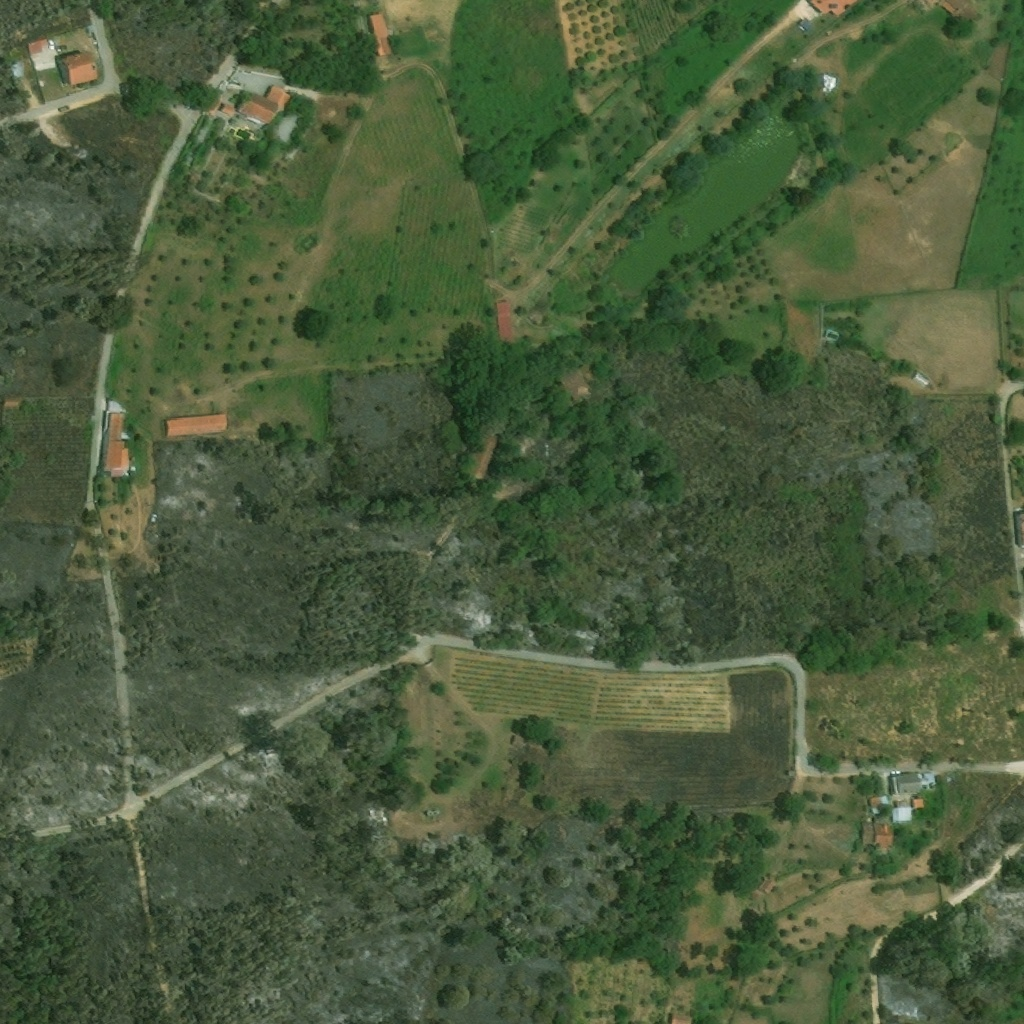0 no-damage: (218, 84, 291, 124), (100, 411, 130, 478), (55, 50, 99, 86), (162, 413, 223, 434), (861, 817, 896, 848), (889, 772, 937, 792), (494, 301, 513, 340), (893, 798, 925, 821), (367, 12, 389, 38), (868, 794, 893, 814), (28, 38, 51, 59), (669, 1014, 692, 1023)
4 un-classified: (808, 0, 860, 16), (939, 0, 979, 19), (1015, 512, 1023, 547)
